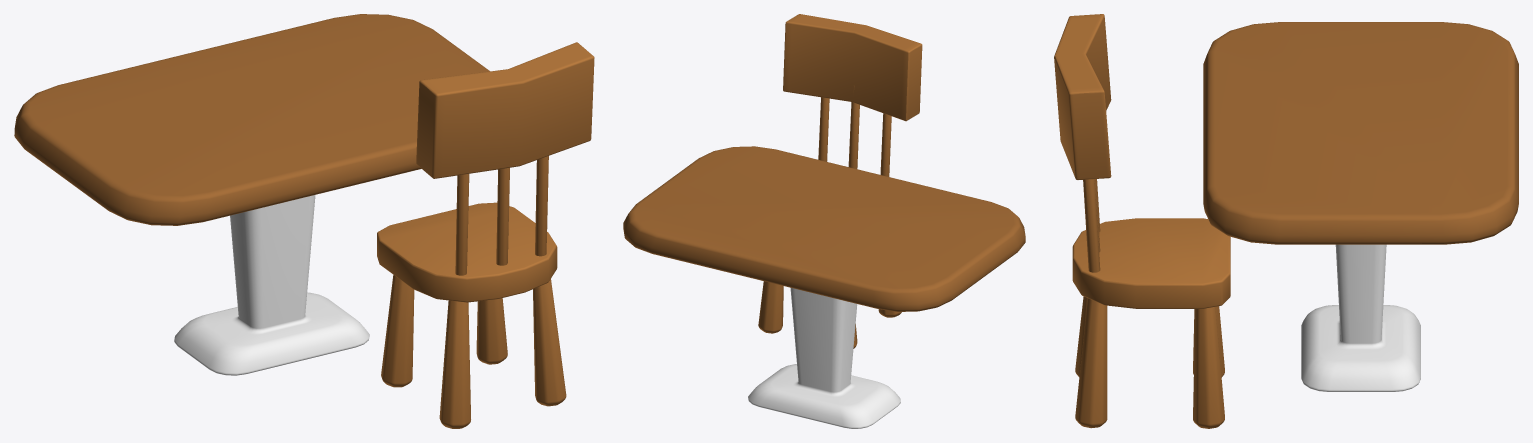
File: masa_sandalye.fbx
The picture shows the model from 3 angles, left to right: view 1: azimuth 30°, elevation 25°; view 2: azimuth 150°, elevation 25°; view 3: azimuth 270°, elevation 25°; orthographic projection. The views are drawn at different scales.
Visible parts, largest first — view 1: Cube.049, Cube.075; view 2: Cube.049, Cube.075; view 3: Cube.049, Cube.075.
Part boxes in pixels (box(x1,y1,x2,y2)): Cube.049: box(14, 14, 489, 375); Cube.075: box(377, 42, 594, 428); Cube.049: box(623, 146, 1025, 428); Cube.075: box(758, 14, 922, 348); Cube.049: box(1203, 22, 1518, 391); Cube.075: box(1054, 14, 1230, 428).
Size of the model in its own units: 438 by 353 by 424.
